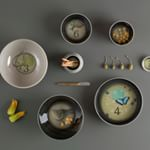cups: (58, 11, 94, 47), (108, 18, 137, 49)
